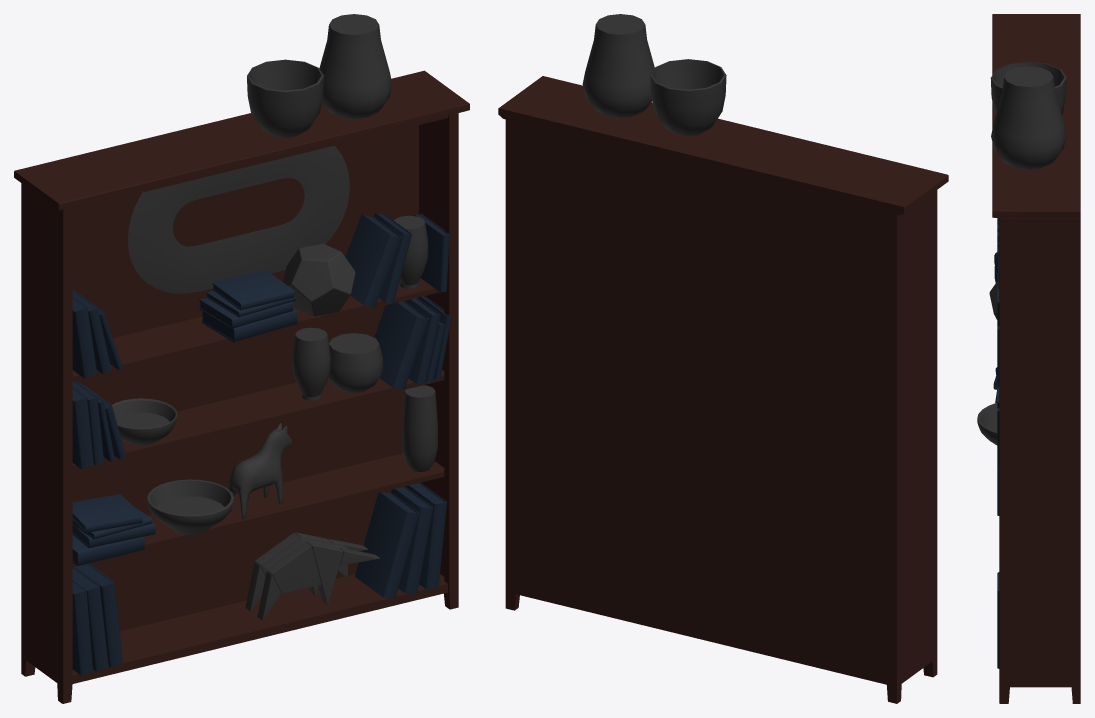
File: BookCaseFilled.fbx
3 views of the same model, side by side, from view 1: azimuth 30°, elevation 25°; view 2: azimuth 150°, elevation 25°; view 3: azimuth 270°, elevation 25° (orthographic).
Visible parts, largest first — view 1: bookcase; view 2: bookcase; view 3: bookcase.
Part boxes in pixels (x1,y1,x2,y2): bookcase: (14, 14, 469, 703); bookcase: (498, 14, 948, 703); bookcase: (977, 14, 1080, 703).
Bounding box in the file's own units: 178 × 246 × 39.5.
